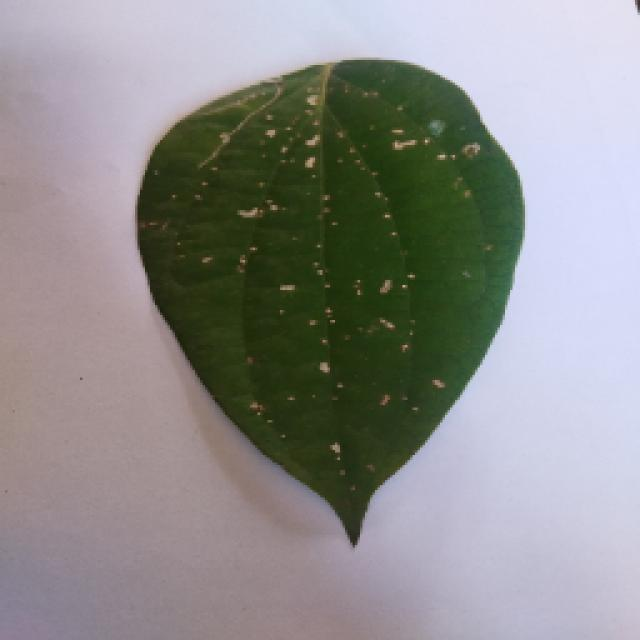pollu-disease: (132, 55, 522, 545)
